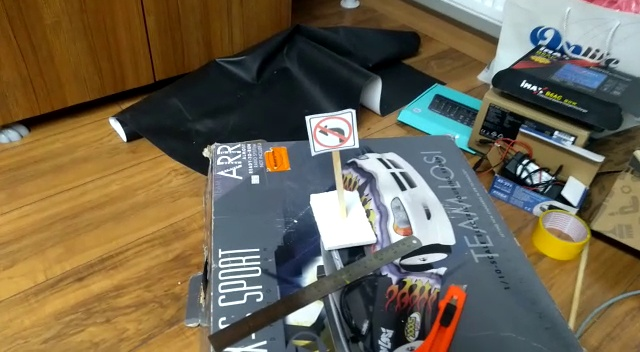sola_donulmez: (310, 110, 355, 149)
